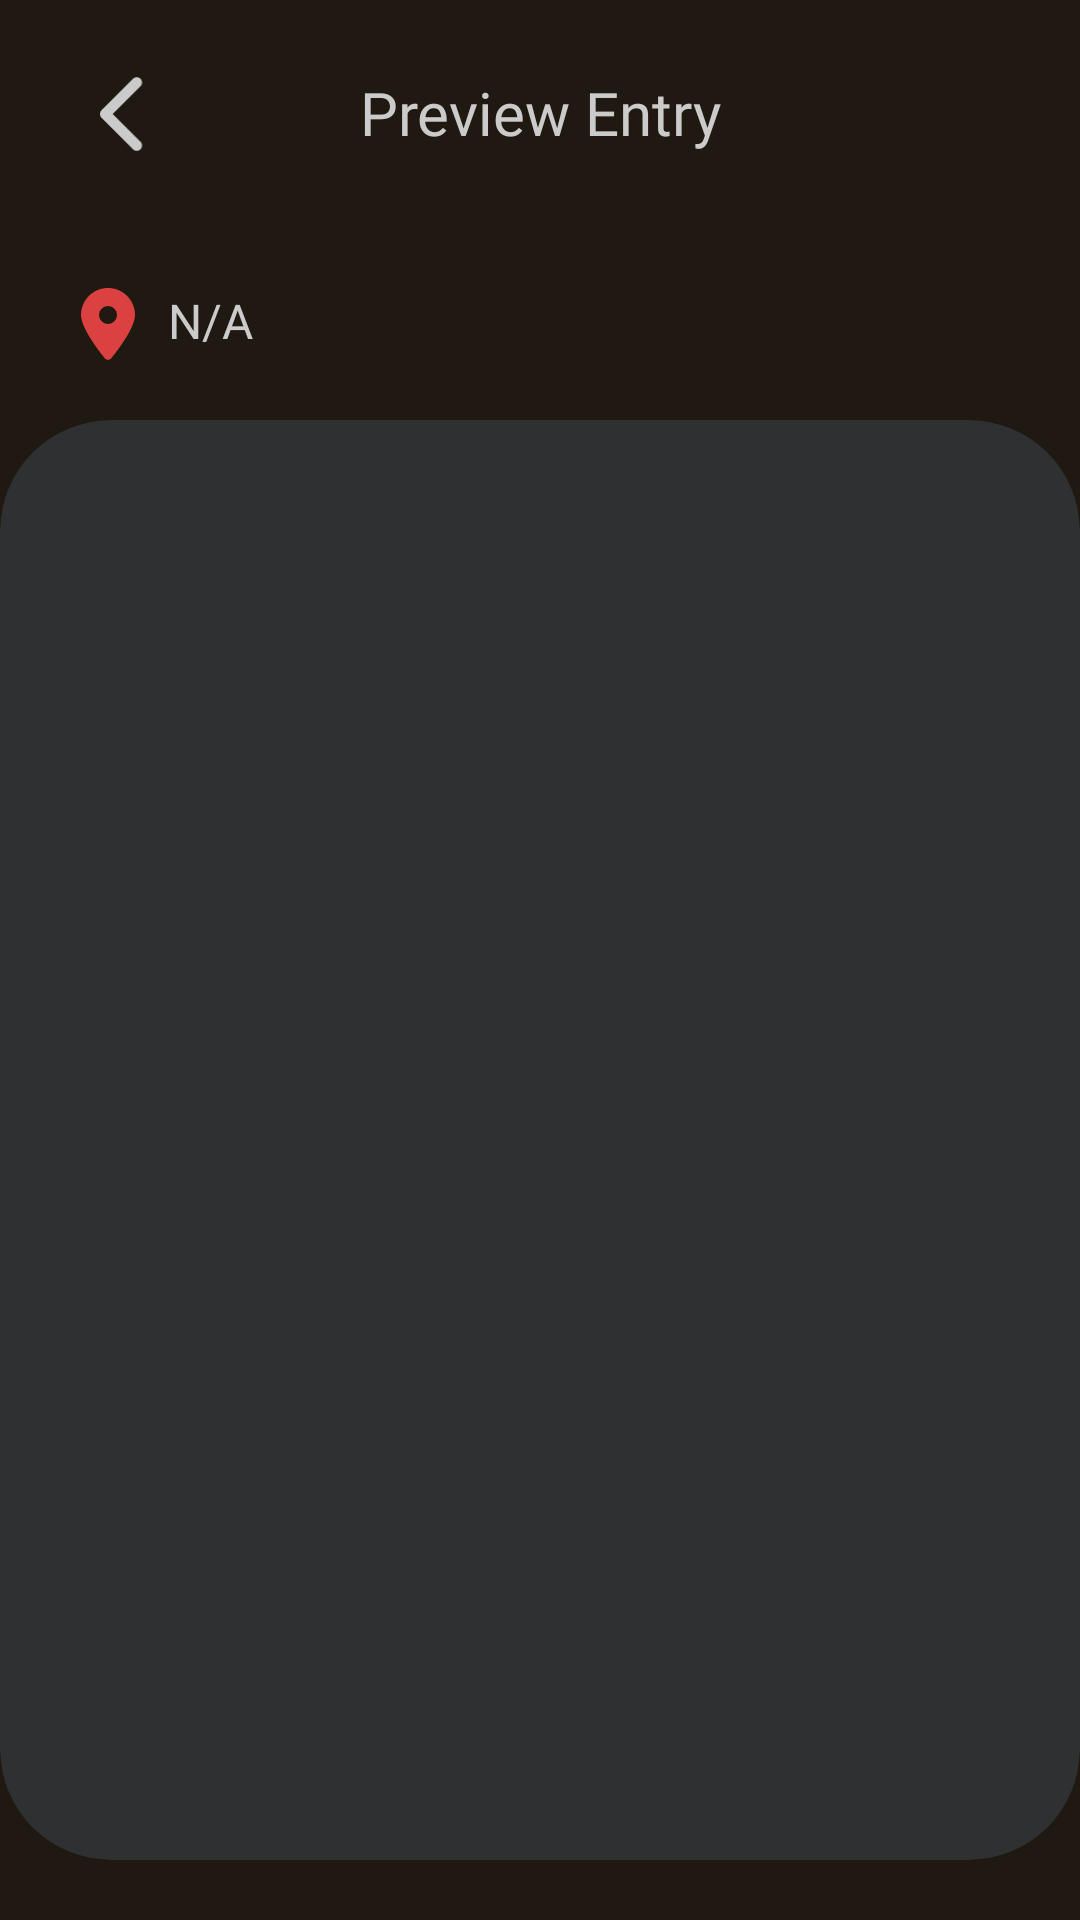

Where icons sit on this 1080px x 1920px app screen, as (x1, y1, x2, y2):
Back Button: (100, 77, 143, 151)
location dot: (81, 288, 135, 360)
